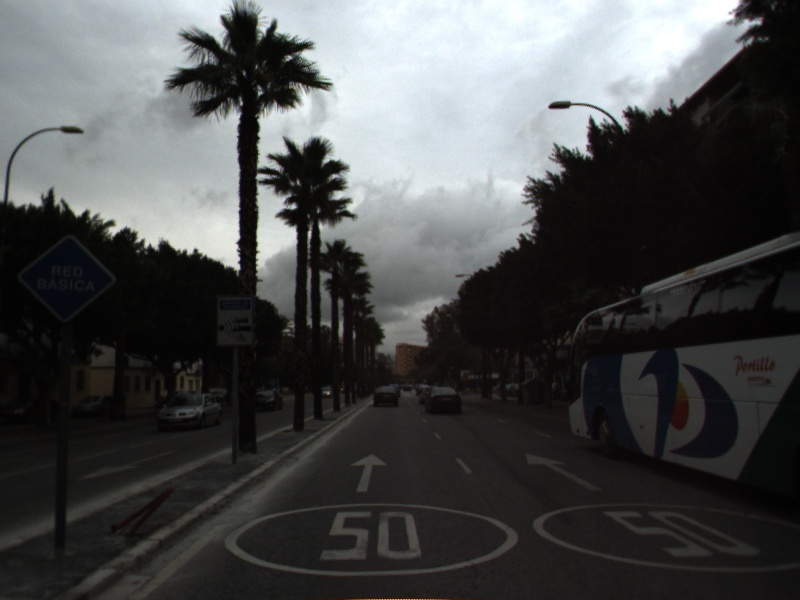STRAIGHT: (524, 451, 605, 493), (348, 451, 391, 494)
